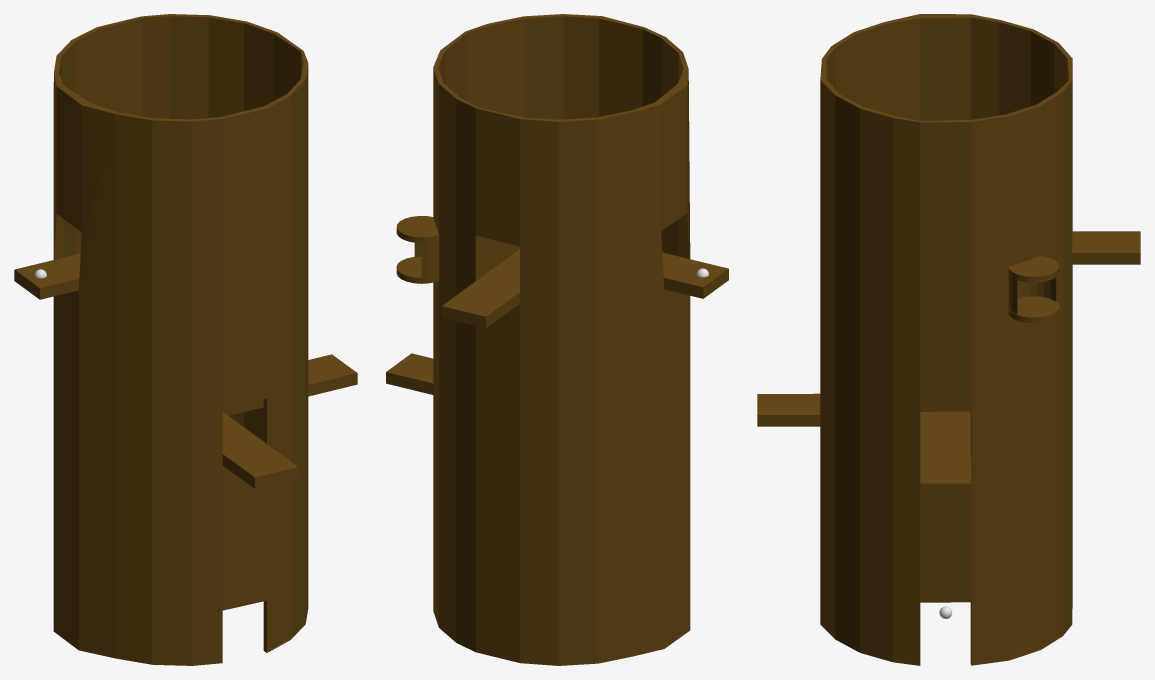
Rendered from Main tree.fbx.
3 views of the same model, side by side, from view 1: azimuth 30°, elevation 25°; view 2: azimuth 150°, elevation 25°; view 3: azimuth 270°, elevation 25° (orthographic).
Visible parts, largest first — view 1: main tree, Cube (×2); view 2: main tree, Cube (×2), Cylinder (1), Pipe, collectable; view 3: main tree, Cube (×2), Pipe, collectable, Cylinder (1).
Part boxes in pixels (x1,y1,x2,y2): main tree: (53, 14, 308, 665); Cube (×2): (14, 253, 357, 488); main tree: (433, 14, 690, 665); Cube (×2): (386, 249, 728, 394); Cylinder (1): (396, 216, 439, 243); Pipe: (396, 234, 439, 277); collectable: (396, 257, 439, 283); main tree: (820, 14, 1072, 665); Cube (×2): (757, 231, 1140, 495); Pipe: (1008, 272, 1059, 317); collectable: (1008, 296, 1058, 323); Cylinder (1): (1008, 256, 1059, 282).
Size of the model in its own units: 28.69 by 47.43 by 29.99.
